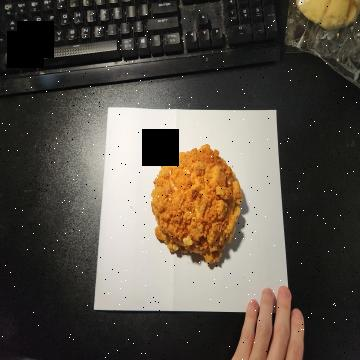soboru_bread: (150, 140, 244, 267)
